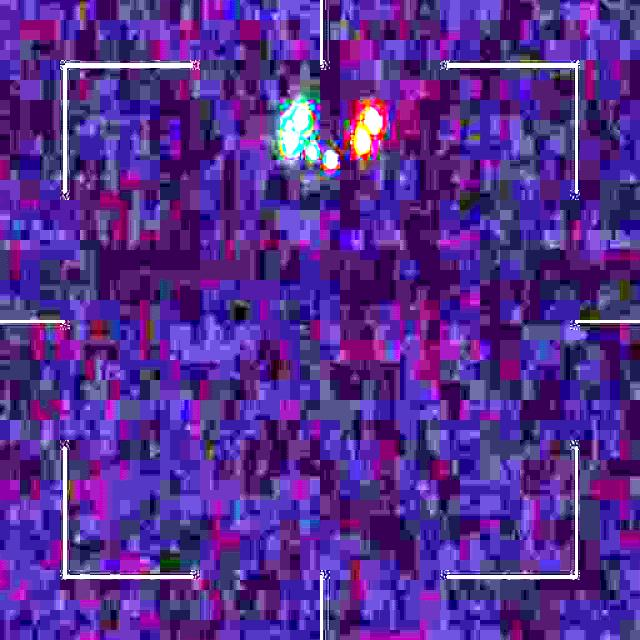bird: (281, 109, 384, 166)
